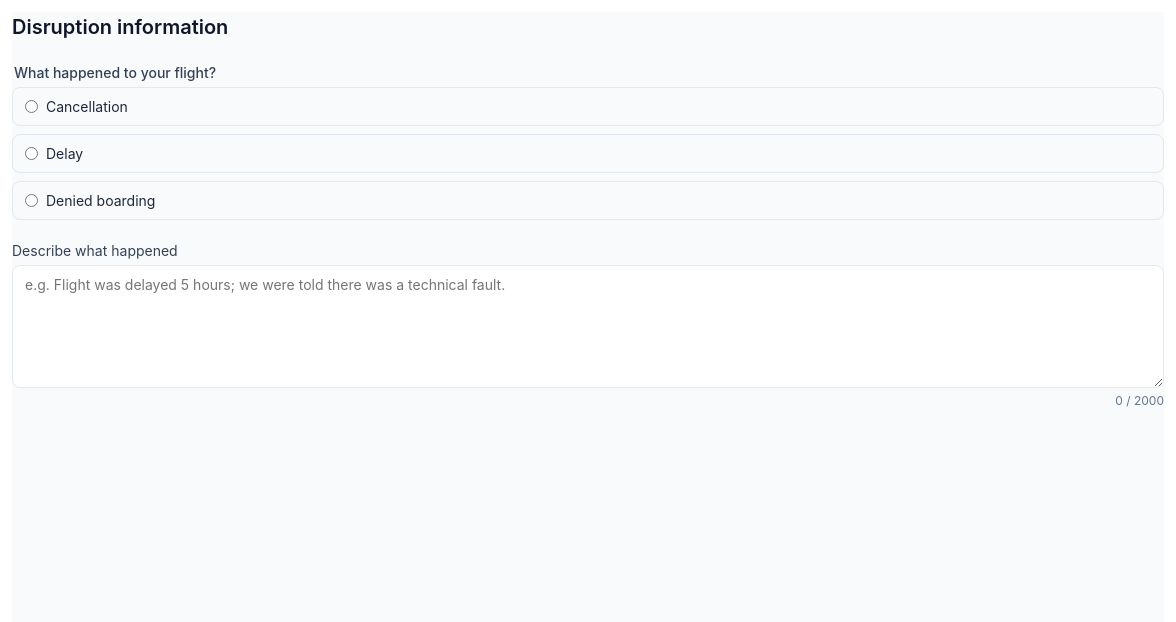
it: DisruptionInfoSection › reveals reason only when voluntary=NO on denied boarding
Step 1. Click the radio button labelled "Denied boarding" → [32, 200], box [25,194,38,207]
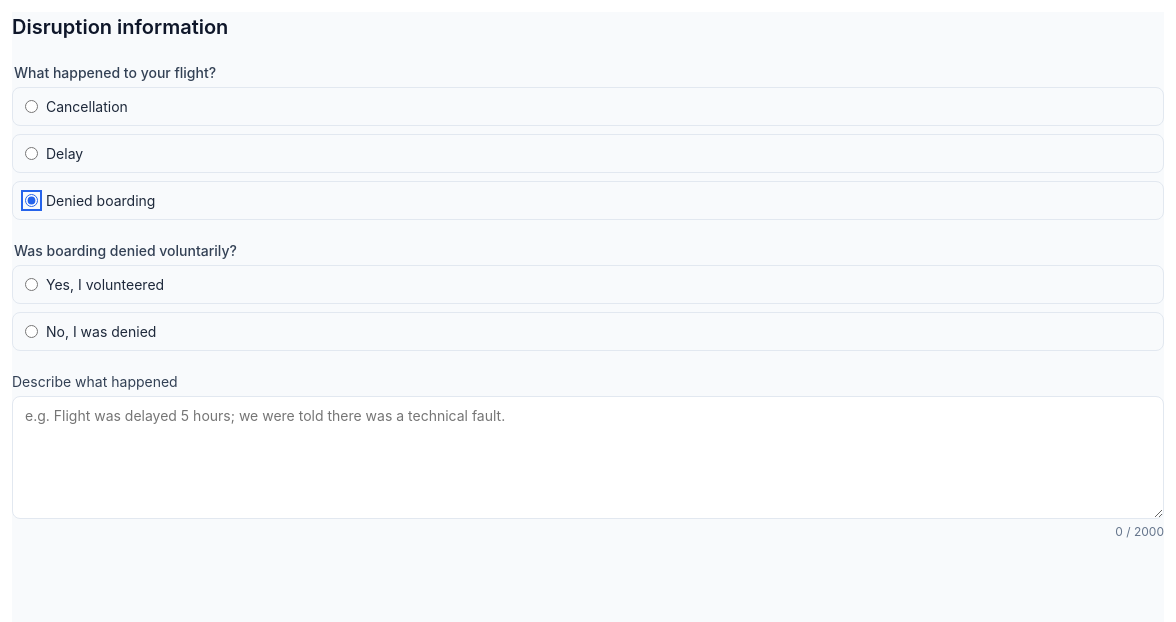
Check: the text "reason boarding was denied" is not shown
Check: the text "Was boarding denied voluntarily?" is shown, box [12,240,239,261]
Step 2. Click the radio button labelled "No, I was denied" → [32, 332], box [25,325,38,338]
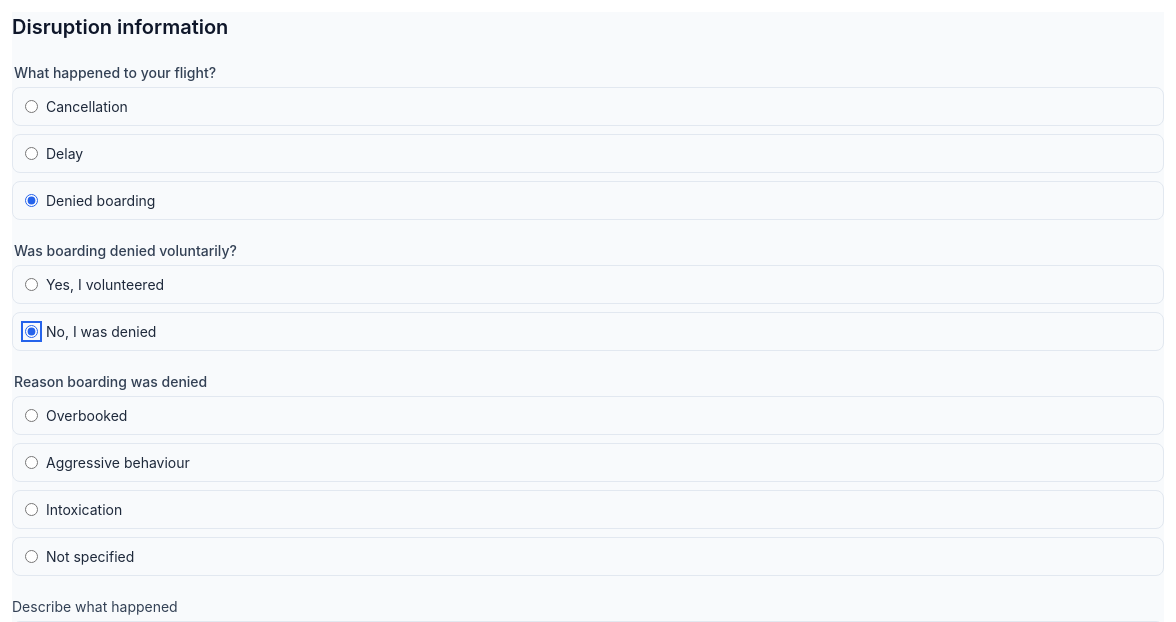
Check: the text "Reason boarding was denied" is shown, box [12,371,209,392]
